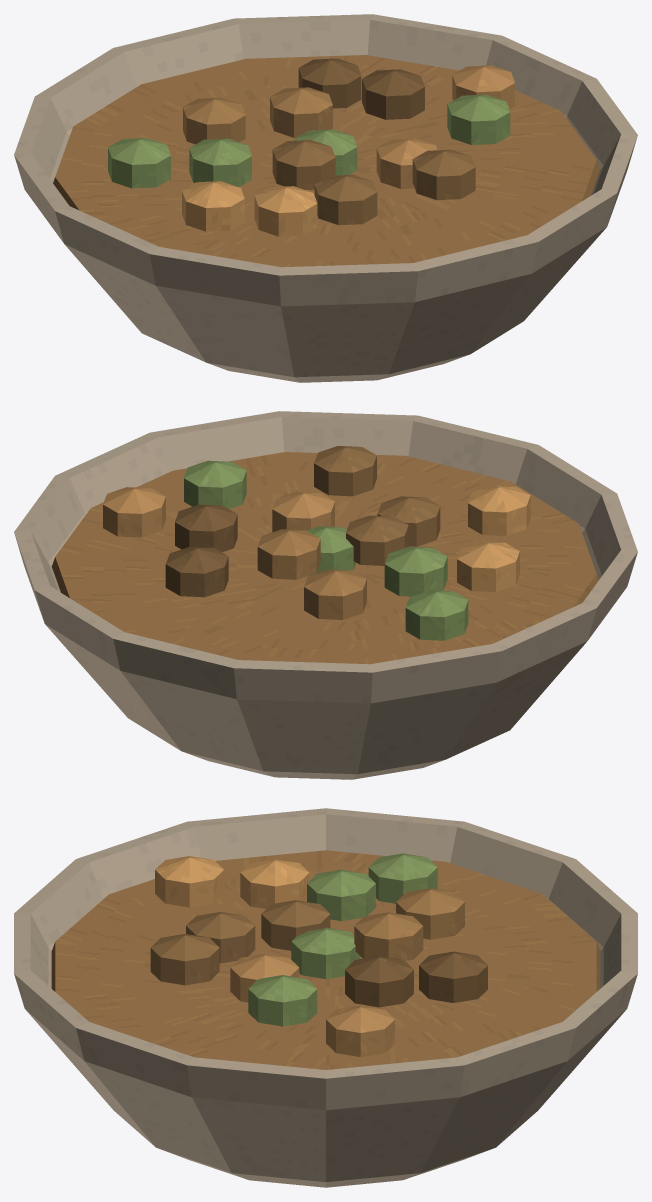
Rendered from curry_meat.glb.
The picture shows the model from 3 angles, top to bottom: view 1: azimuth 30°, elevation 25°; view 2: azimuth 150°, elevation 25°; view 3: azimuth 270°, elevation 25°; orthographic projection. The views are drawn at different scales.
Parts seen in each view (by area): view 1: block_earthenware bowl, block_meal in bowl, block_pieces in cooked dish (×15); view 2: block_earthenware bowl, block_meal in bowl, block_pieces in cooked dish (×15); view 3: block_earthenware bowl, block_meal in bowl, block_pieces in cooked dish (×15).
Boxes of the visible parts, x1,y1,x2,y2 form: block_earthenware bowl: (14, 14, 637, 382); block_meal in bowl: (53, 55, 600, 267); block_pieces in cooked dish (×15): (108, 58, 514, 236); block_earthenware bowl: (14, 411, 637, 779); block_meal in bowl: (51, 452, 598, 664); block_pieces in cooked dish (×15): (103, 446, 530, 640); block_earthenware bowl: (14, 808, 637, 1187); block_meal in bowl: (51, 850, 600, 1069); block_pieces in cooked dish (×15): (150, 853, 487, 1056).
Size of the model in its own units: 0.1203 by 0.0419 by 0.1173.
Materials: 1 (1 with a texture image).
